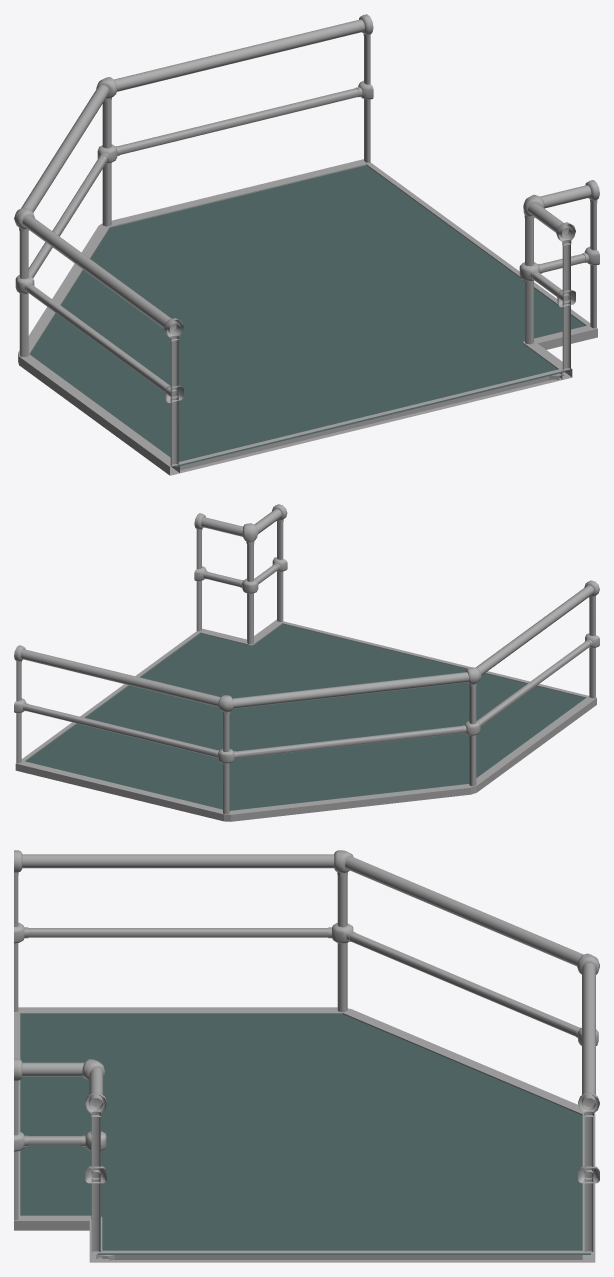
File: RailWalk_Corner.fbx
The picture shows the model from 3 angles, top to bottom: view 1: azimuth 30°, elevation 25°; view 2: azimuth 150°, elevation 25°; view 3: azimuth 270°, elevation 25°; orthographic projection. The views are drawn at different scales.
Visible parts, largest first — view 1: glass08, lineplank16, Mainrailing9, lineplank19, Mainrailing8, midrailing11, Railingvert12, Mainrailing10, lineplank24, midrailing09, Railingvert11, lineplank23 (+7 smaller); view 2: glass08, lineplank23, Mainrailing10, lineplank24, Mainrailing9, lineplank19, midrailing12, midrailing11, Mainrailing8, Railingvert12, lineplank16, Railingvert11 (+7 smaller); view 3: glass08, lineplank17, Mainrailing8, Mainrailing10, midrailing09, Railingvert11, midrailing12, lineplank19, lineplank23, Mainrailing9, lineplank27, Railingvert13 (+6 smaller).
Part boxes in pixels (left/top/right/bottom): glass08: left=30, top=165, right=585, bottom=466; lineplank16: left=178, top=369, right=561, bottom=473; Mainrailing9: left=114, top=19, right=364, bottom=91; lineplank19: left=18, top=353, right=179, bottom=475; Mainrailing8: left=22, top=215, right=180, bottom=334; midrailing11: left=118, top=88, right=359, bottom=154; Railingvert12: left=170, top=244, right=570, bottom=466; Mainrailing10: left=21, top=85, right=109, bottom=212; lineplank24: left=99, top=159, right=370, bottom=227; midrailing09: left=27, top=285, right=178, bottom=398; Railingvert11: left=364, top=36, right=596, bottom=328; lineplank23: left=18, top=225, right=109, bottom=354; glass08: left=25, top=624, right=585, bottom=810; lineplank23: left=229, top=784, right=470, bottom=821; Mainrailing10: left=232, top=672, right=469, bottom=708; lineplank24: left=15, top=760, right=230, bottom=821; Mainrailing9: left=20, top=649, right=220, bottom=706; lineplank19: left=469, top=696, right=596, bottom=794; midrailing12: left=236, top=726, right=463, bottom=758; midrailing11: left=25, top=704, right=217, bottom=756; Mainrailing8: left=476, top=585, right=594, bottom=675; Railingvert12: left=277, top=522, right=595, bottom=698; lineplank16: left=282, top=621, right=588, bottom=698; Railingvert11: left=16, top=531, right=201, bottom=763; glass08: left=20, top=1014, right=590, bottom=1254; lineplank17: left=102, top=1250, right=582, bottom=1262; Mainrailing8: left=22, top=854, right=334, bottom=868; Mainrailing10: left=345, top=856, right=583, bottom=966; midrailing09: left=28, top=928, right=328, bottom=937; Railingvert11: left=91, top=1117, right=593, bottom=1251; midrailing12: left=349, top=932, right=579, bottom=1036; lineplank19: left=14, top=1007, right=350, bottom=1013; lineplank23: left=342, top=1009, right=583, bottom=1115; Mainrailing9: left=582, top=963, right=595, bottom=1110; lineplank27: left=14, top=1215, right=102, bottom=1262; Railingvert13: left=337, top=875, right=347, bottom=1012.
Bounding box in the file's own units: 1.78 × 0.5651 × 1.78.
